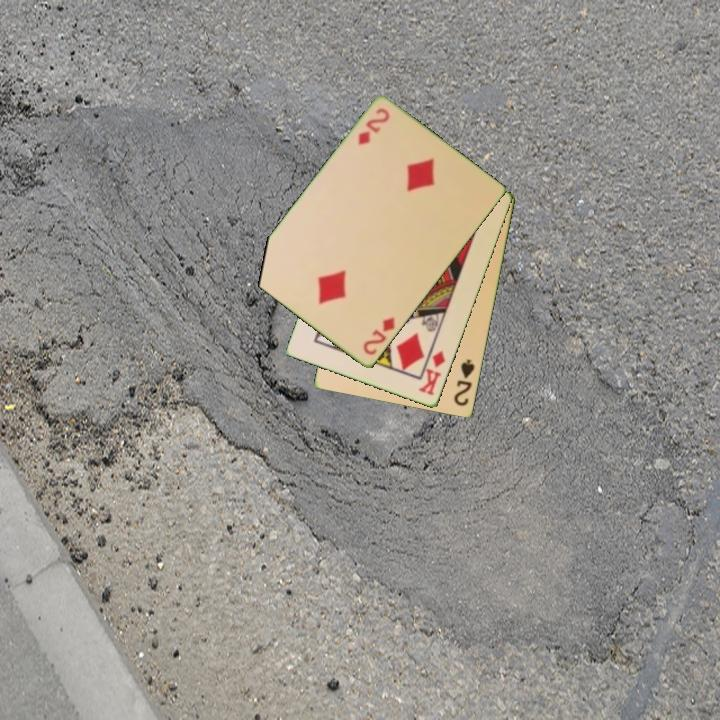2d: (354, 105, 393, 149), (360, 314, 398, 358)
2s: (450, 356, 478, 409)
Kd: (415, 347, 449, 399)
